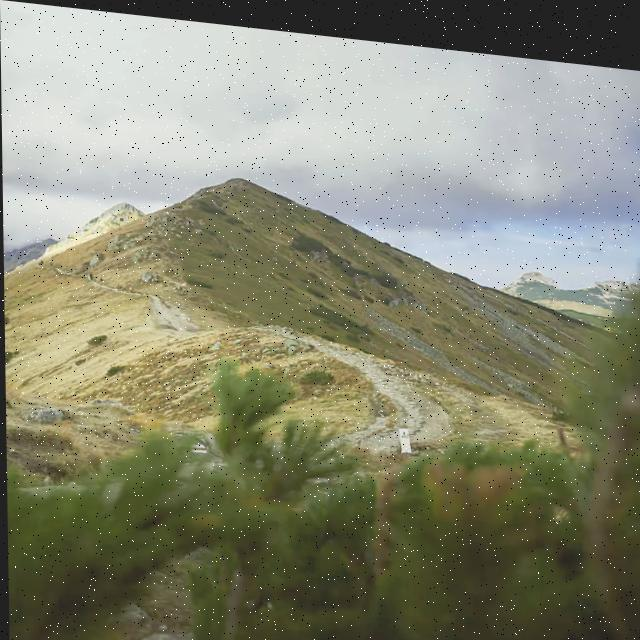Giewont: (483, 243, 584, 302)
Kopa Kondracka: (111, 102, 365, 253)
